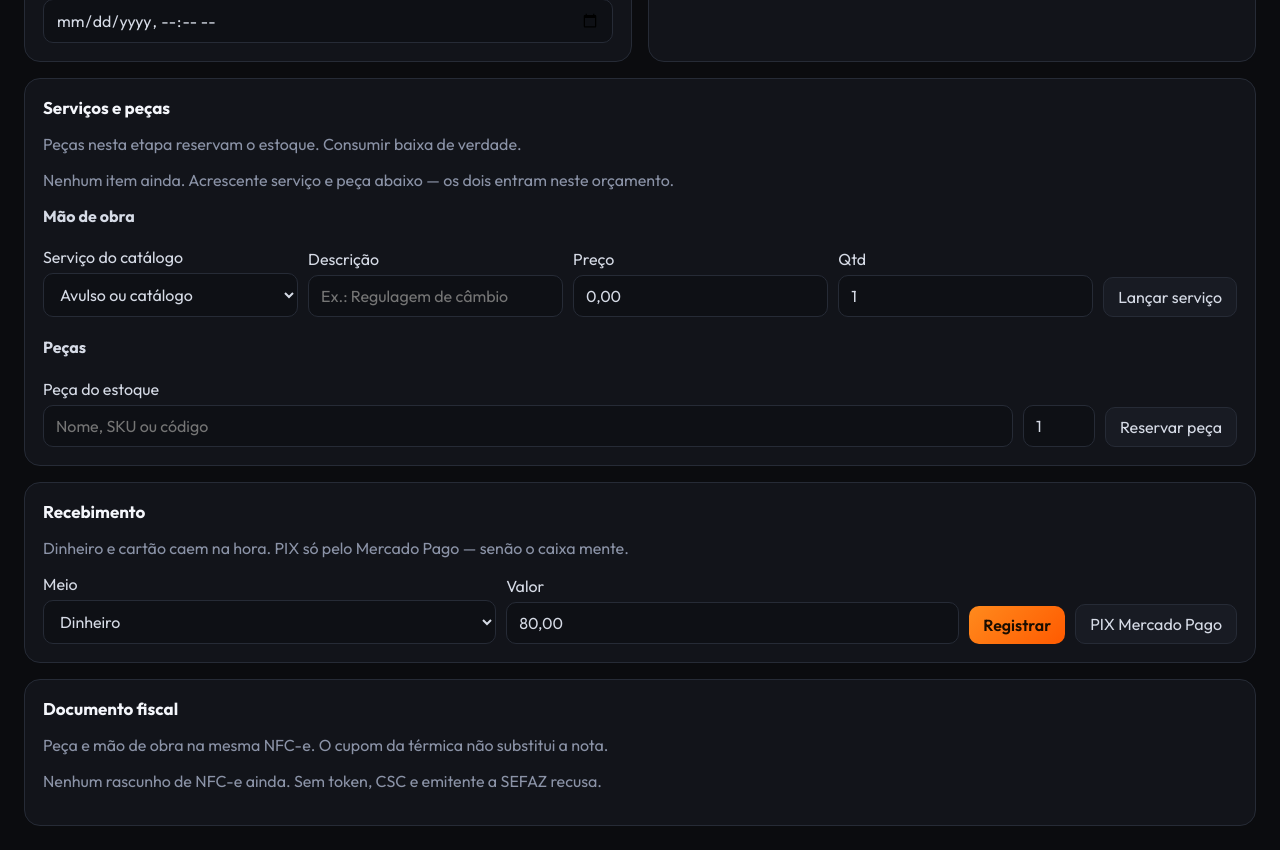
Test: OS pronta › mostra o 409 ao registrar pagamento com caixa fechado
(page scrolled)
Expected: the dropdown labelled "Meio" shows "Dinheiro", [43, 600, 496, 644]
Expected: the text "PIX só pelo Mercado Pago" is shown, [43, 538, 629, 558]
Click the button "Registrar" at (1017, 624), box [969, 606, 1065, 644]
(page scrolled)
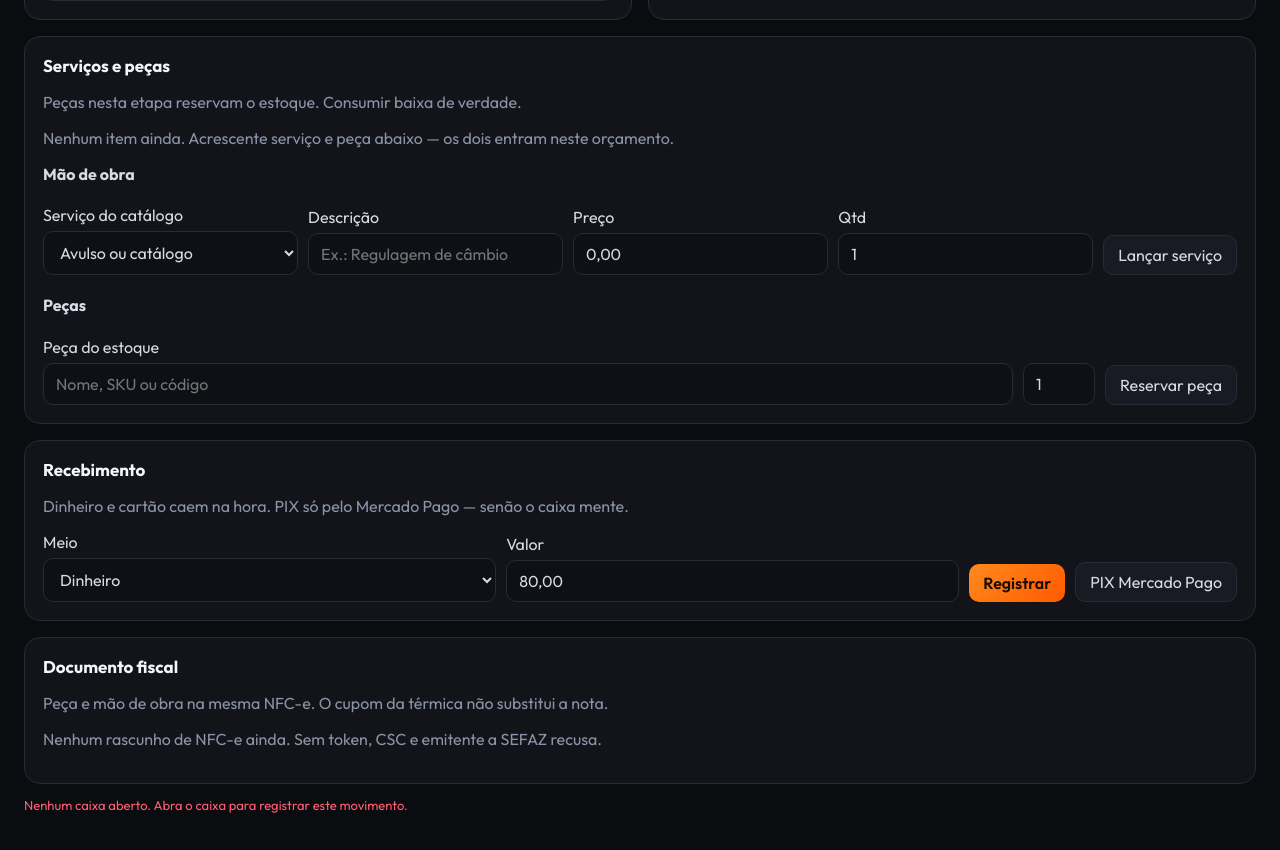
Expected: the text "Nenhum caixa aberto. Abra o caixa para registrar este movimento." is shown, [24, 796, 408, 812]
